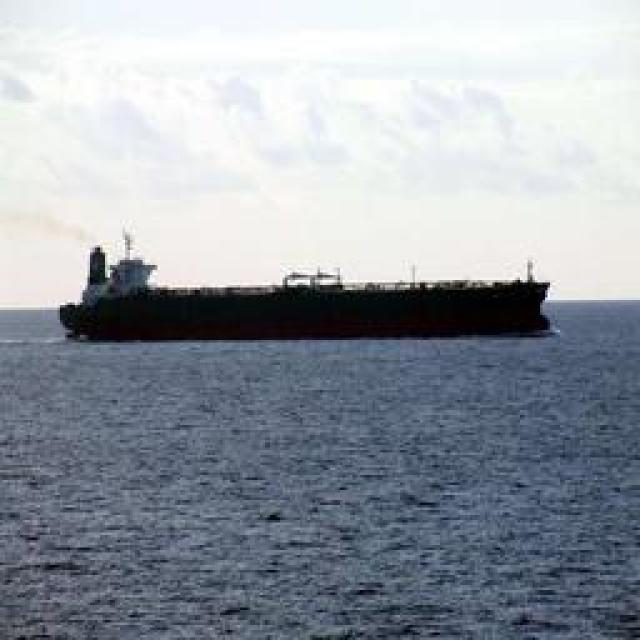CIV_Ship: (52, 268, 556, 338)
